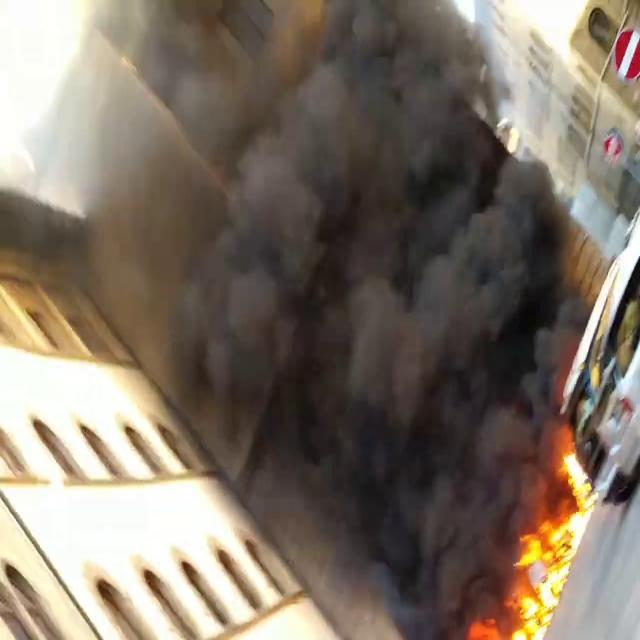Fire: (482, 447, 596, 637)
Smoke: (43, 1, 589, 574)
